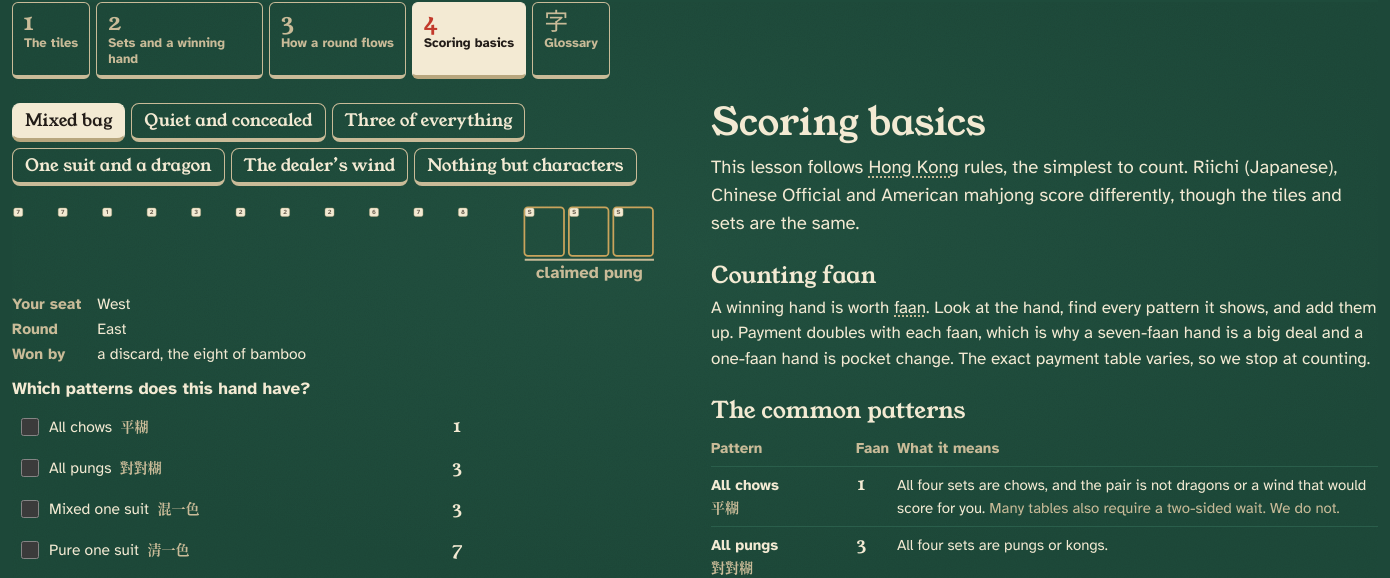
Test: Primer › checks a faan count
This screenshot has width=1390, height=578.
Click the radio button labelled "Three of everything" at (428, 122), box [332,103,525,142]
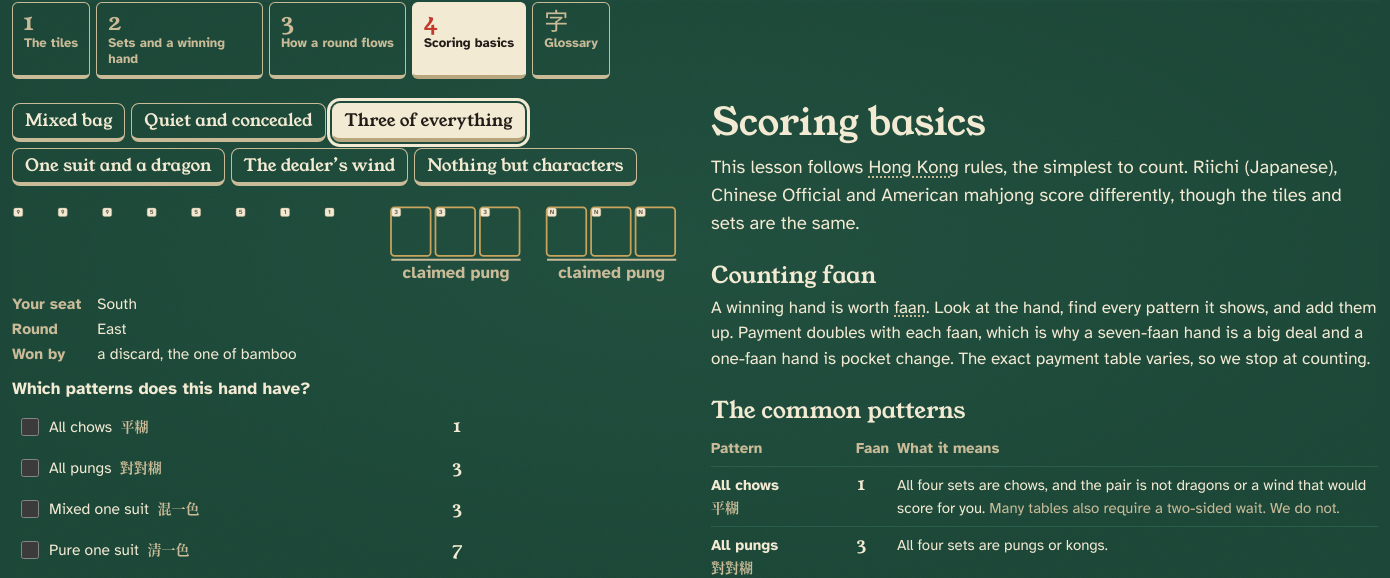
Click the checkbox labelled "All pungs 對對糊 3" at (30, 468), box [21,459,39,477]
(page scrolled)
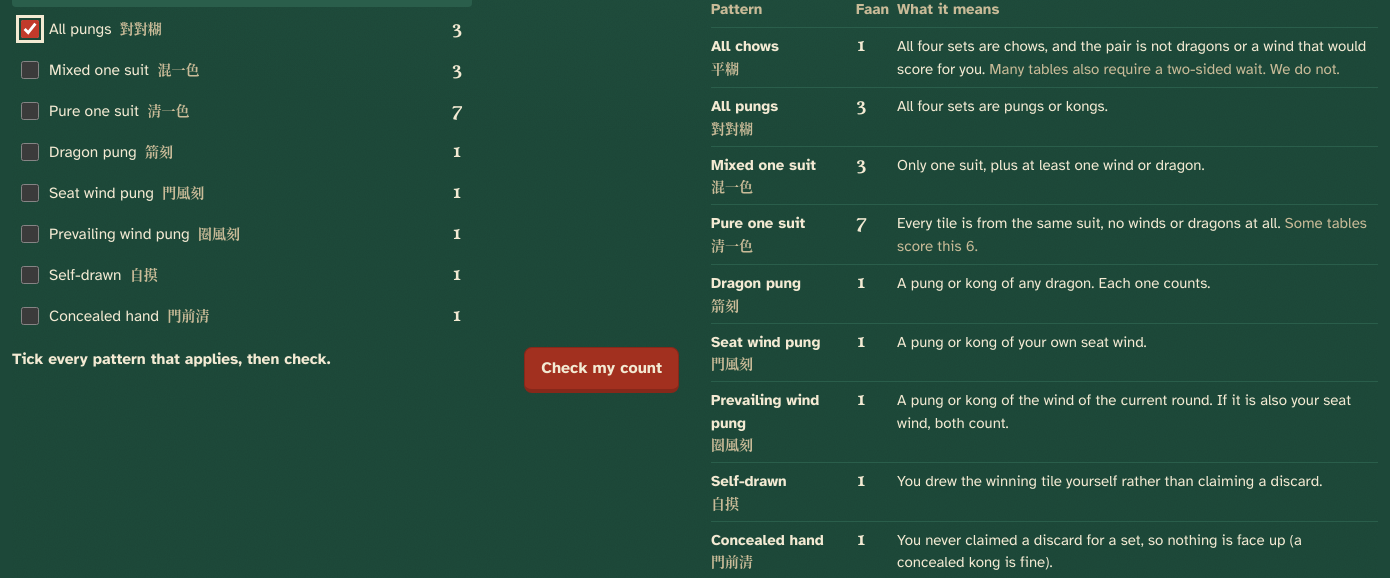
Click the button "Check my count" at (602, 370), box [524,347,679,393]
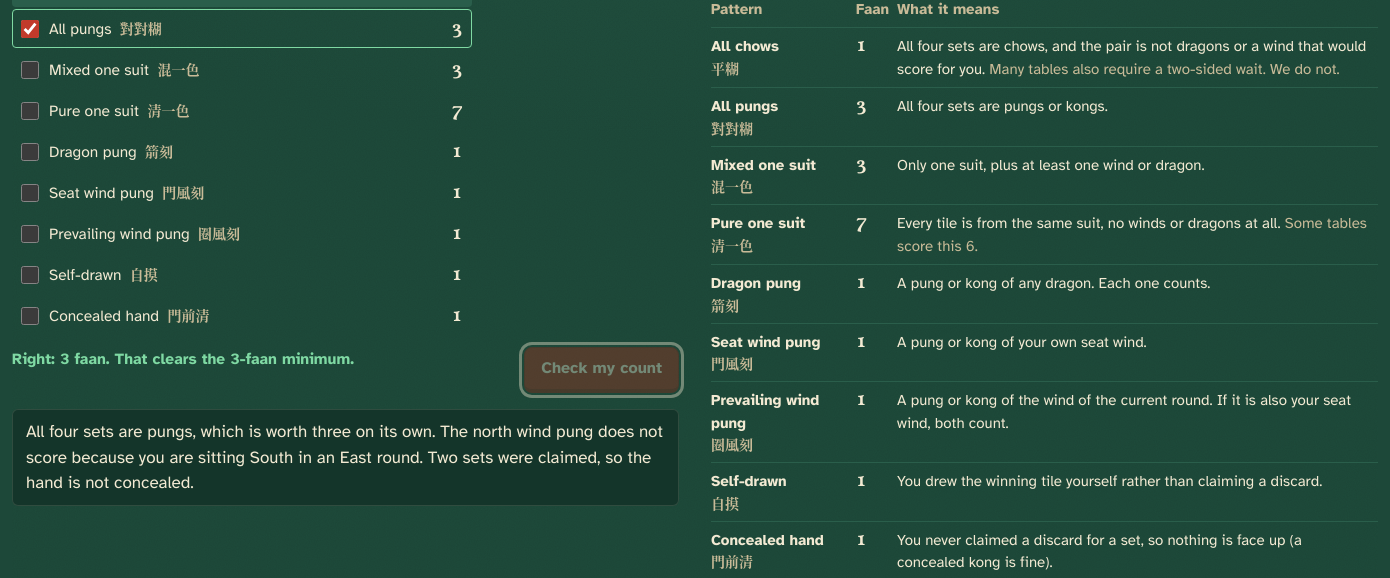
expect the text "Right: 3 faan. That clears the 3-faan minimum." is shown: met, box [12,349,354,368]
